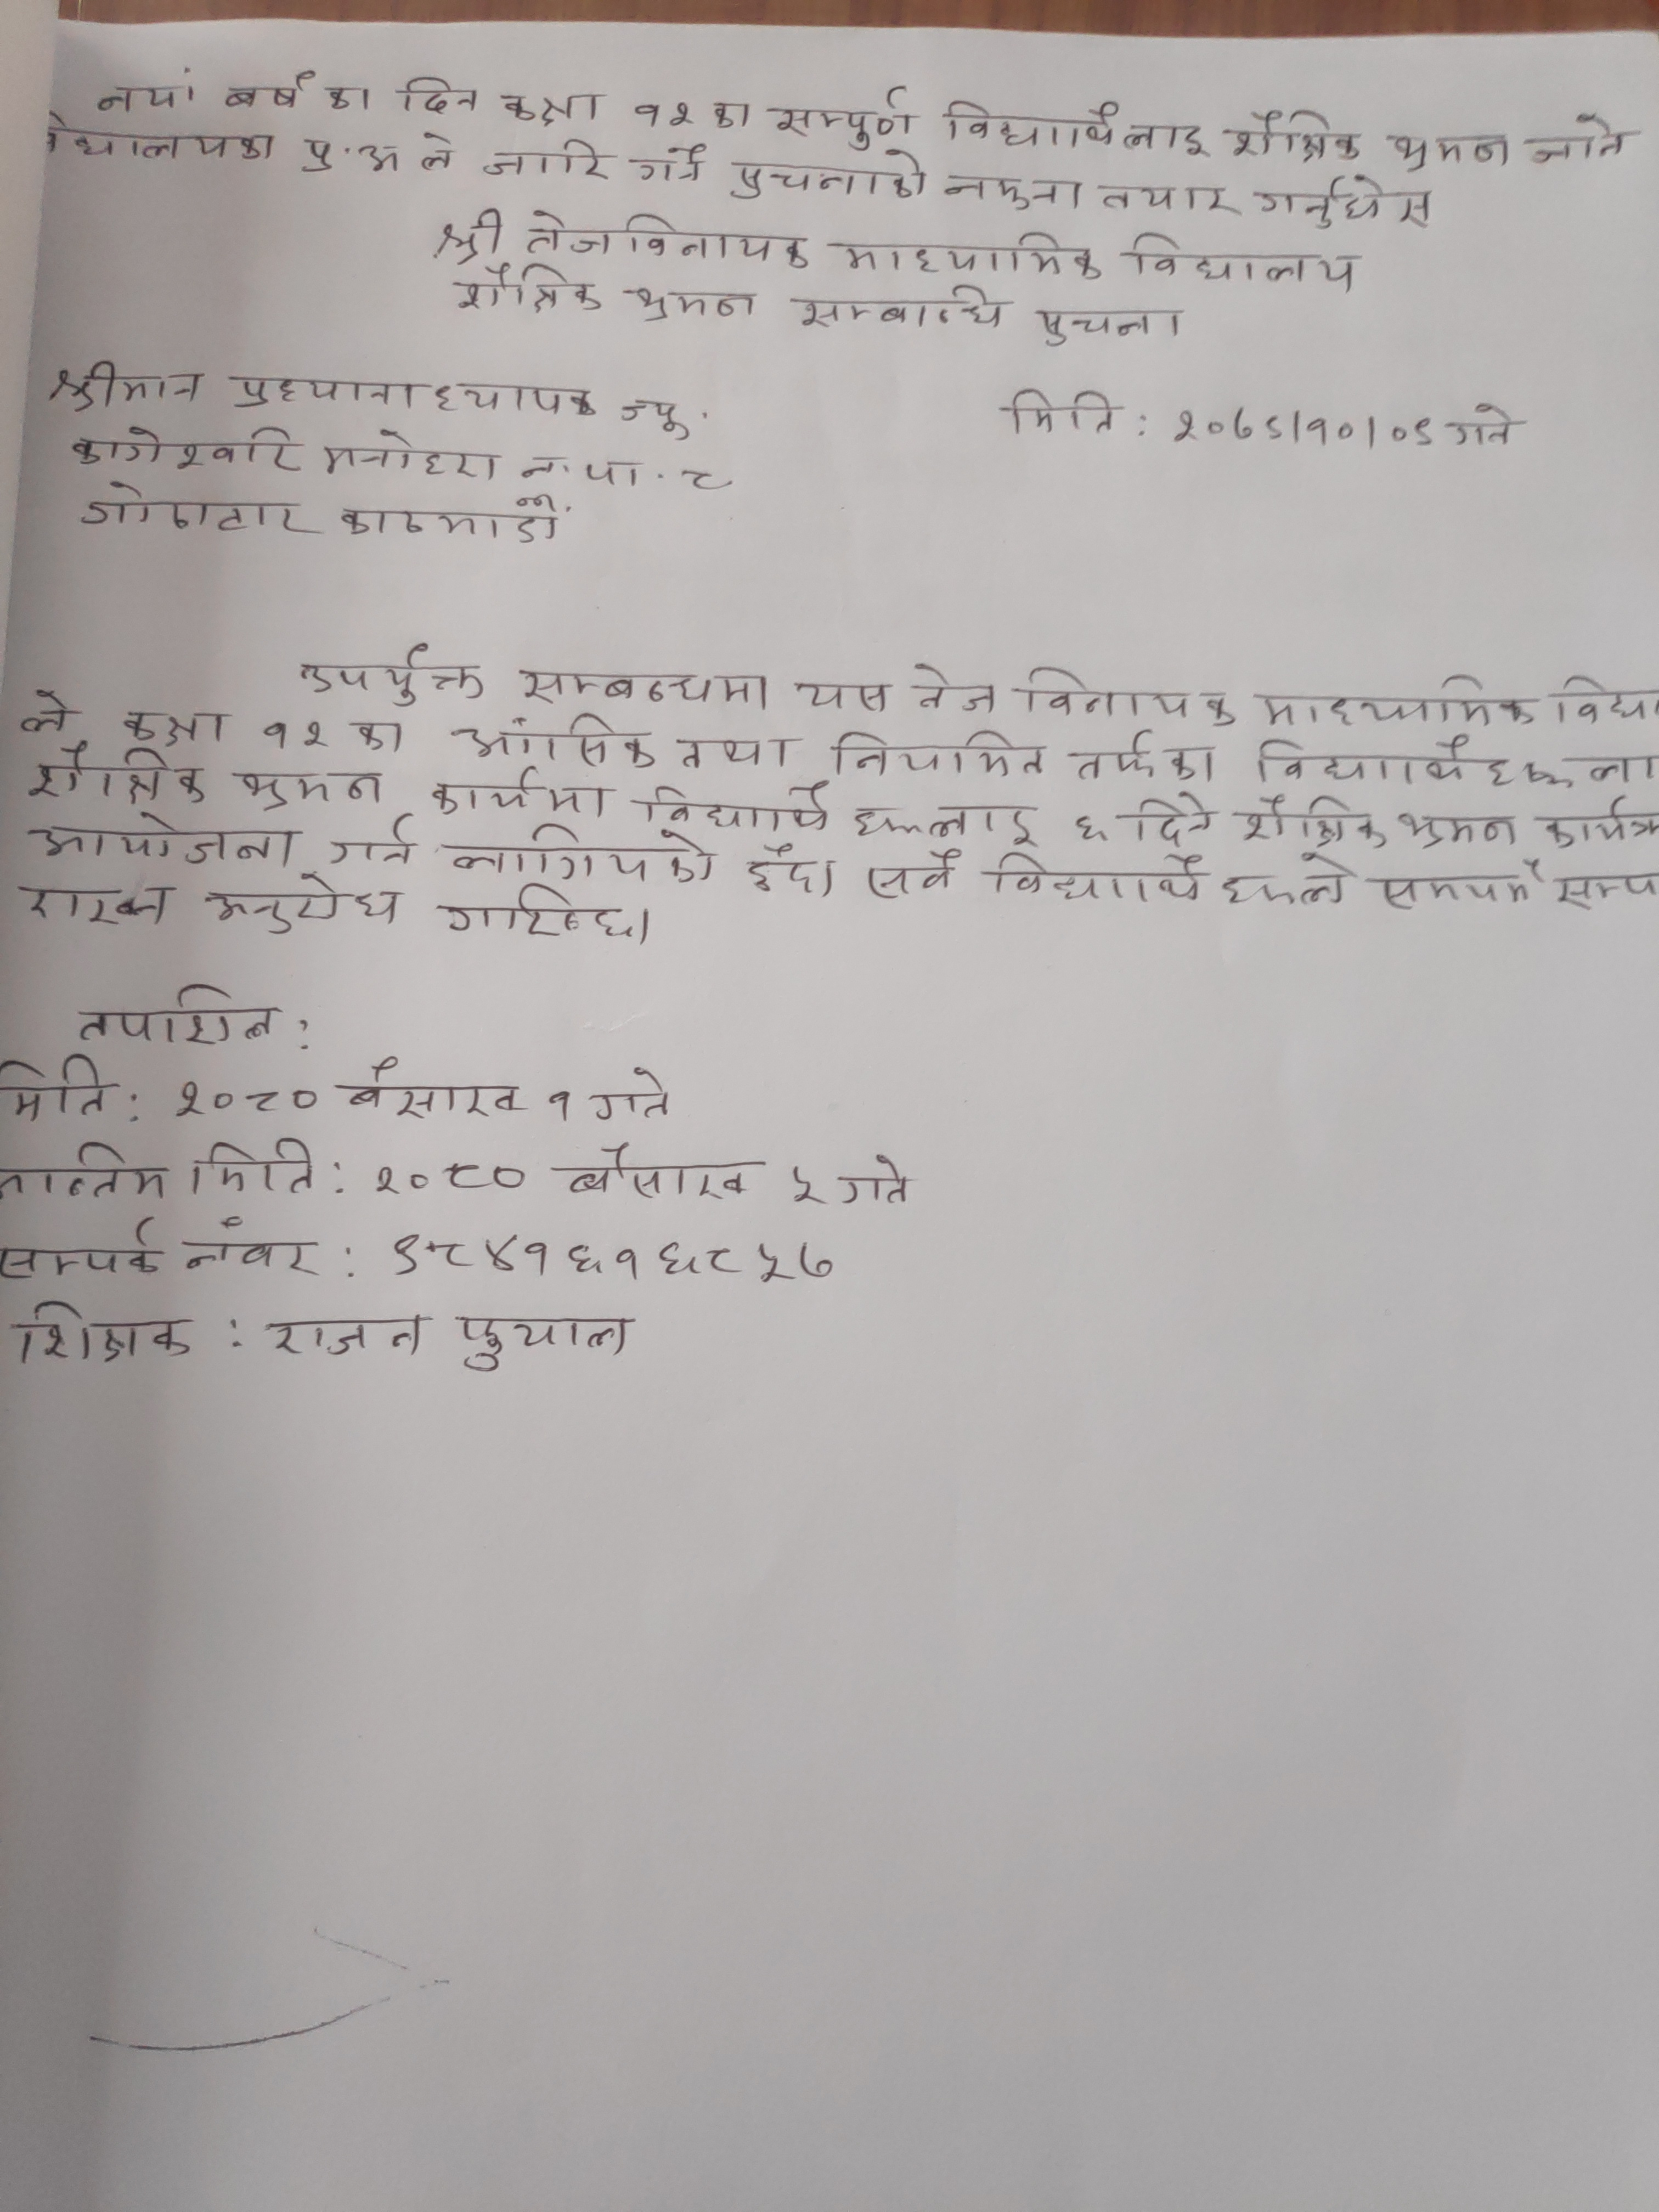text: (390, 1228, 835, 1287), (523, 206, 816, 272), (225, 371, 599, 421), (1253, 674, 1539, 735), (443, 822, 721, 883), (28, 812, 303, 871), (1025, 657, 1239, 730), (40, 111, 282, 176), (945, 94, 1208, 153), (1169, 397, 1438, 455), (71, 981, 282, 1050), (80, 477, 308, 540), (64, 423, 303, 481), (819, 230, 1100, 279), (444, 711, 660, 773), (1126, 232, 1359, 289), (830, 721, 1053, 780), (1251, 740, 1521, 789), (293, 644, 488, 711), (434, 880, 640, 942), (988, 846, 1204, 906), (24, 742, 213, 810), (514, 667, 775, 716), (728, 145, 931, 206), (343, 1057, 519, 1127), (338, 491, 563, 545), (12, 1298, 195, 1364), (450, 1310, 638, 1372), (202, 880, 401, 937), (563, 1144, 755, 1204), (2, 1143, 174, 1205), (786, 284, 1014, 331), (0, 1219, 162, 1284), (1248, 174, 1439, 228), (765, 82, 917, 150), (854, 798, 1039, 850), (319, 430, 498, 482), (643, 784, 835, 833), (295, 125, 455, 183), (1234, 792, 1394, 848), (176, 1217, 322, 1278), (1066, 732, 1225, 787), (16, 876, 174, 930), (423, 770, 612, 815), (45, 359, 207, 411), (1223, 108, 1366, 165), (186, 1139, 321, 1200), (450, 265, 603, 317), (3, 1049, 110, 1123), (1377, 866, 1534, 916), (1220, 852, 1354, 909), (267, 1312, 430, 1359), (234, 761, 387, 810), (477, 134, 613, 188), (1033, 301, 1187, 348), (626, 280, 767, 331), (1535, 796, 1659, 853), (366, 1160, 528, 1204), (1392, 803, 1523, 855), (173, 1075, 317, 1122), (941, 171, 1087, 214), (1556, 857, 1657, 920), (999, 390, 1119, 441), (1553, 674, 1659, 730), (667, 726, 798, 772), (324, 813, 420, 874), (119, 700, 232, 751), (1389, 131, 1513, 176), (1534, 110, 1633, 165), (218, 61, 319, 115), (92, 66, 199, 117), (519, 449, 647, 491), (861, 848, 960, 900), (1096, 181, 1237, 218), (739, 841, 831, 897), (835, 1155, 924, 1212), (911, 660, 1002, 714), (1127, 792, 1218, 846), (591, 1066, 671, 1127), (615, 392, 694, 446), (392, 73, 488, 117), (500, 91, 610, 127), (1443, 401, 1520, 451), (434, 207, 504, 261), (627, 139, 706, 186), (795, 678, 896, 711), (1581, 745, 1659, 787), (12, 686, 77, 735), (263, 714, 338, 756), (633, 92, 699, 132), (350, 718, 415, 752), (1066, 808, 1114, 850), (321, 78, 373, 113), (709, 92, 755, 132), (788, 1163, 824, 1209), (681, 469, 730, 500), (544, 1085, 579, 1127)
